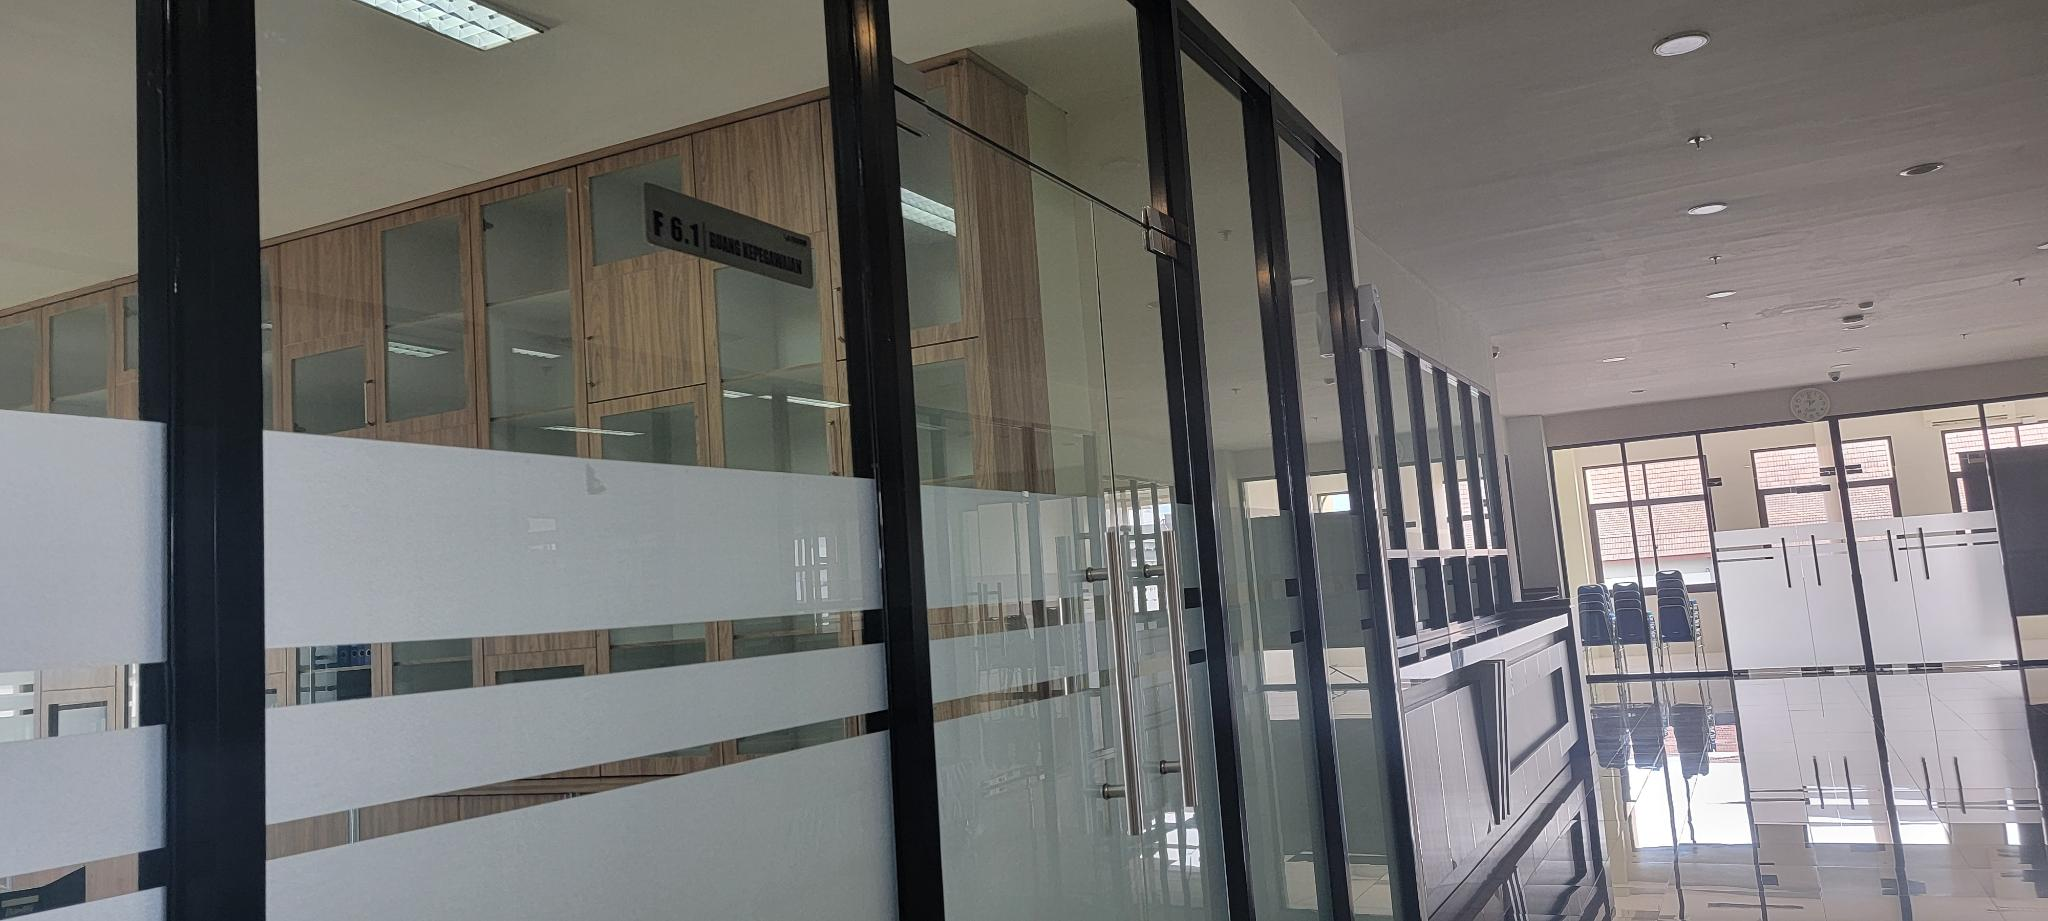plate: (645, 180, 814, 290)
